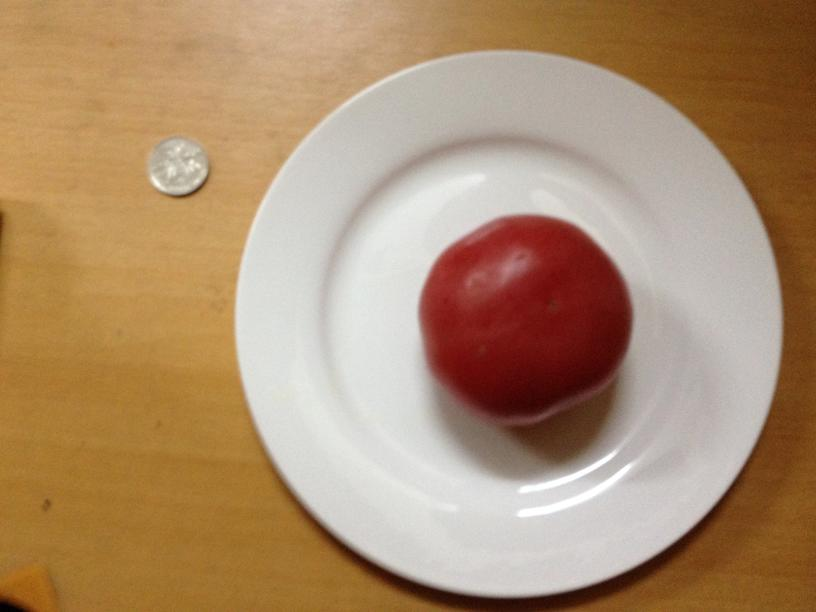coin: (145, 135, 210, 196)
tomato: (419, 209, 633, 427)
